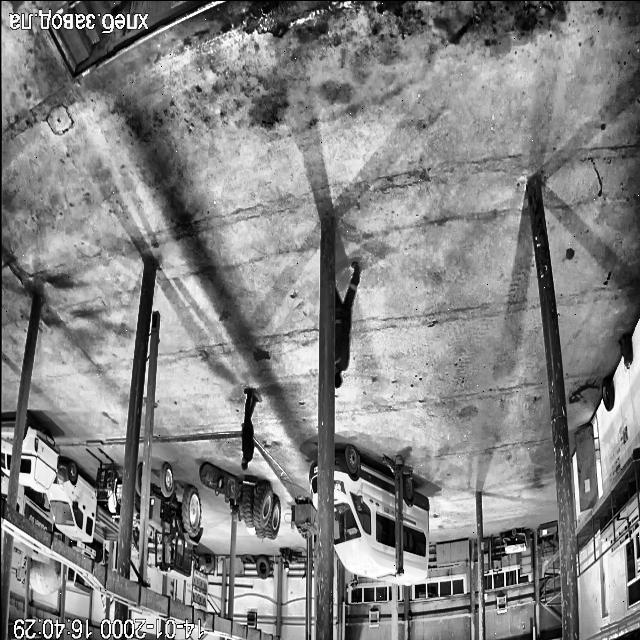class4: (336, 261, 360, 388), (241, 388, 256, 470)
class6: (148, 462, 202, 579), (136, 463, 142, 500), (138, 503, 140, 504)
class7: (333, 444, 428, 585), (47, 461, 117, 541), (20, 413, 59, 492), (0, 522, 48, 560), (16, 484, 52, 532), (30, 557, 64, 595), (69, 540, 106, 563), (64, 567, 92, 595), (0, 420, 14, 474), (308, 462, 317, 508), (16, 556, 25, 583), (0, 476, 8, 499)
tractor: (619, 334, 632, 368)
truck: (383, 455, 412, 578)
